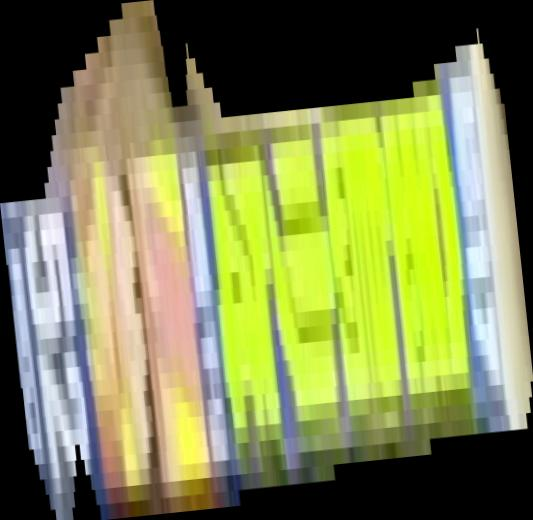flat: (1, 1, 533, 520)
